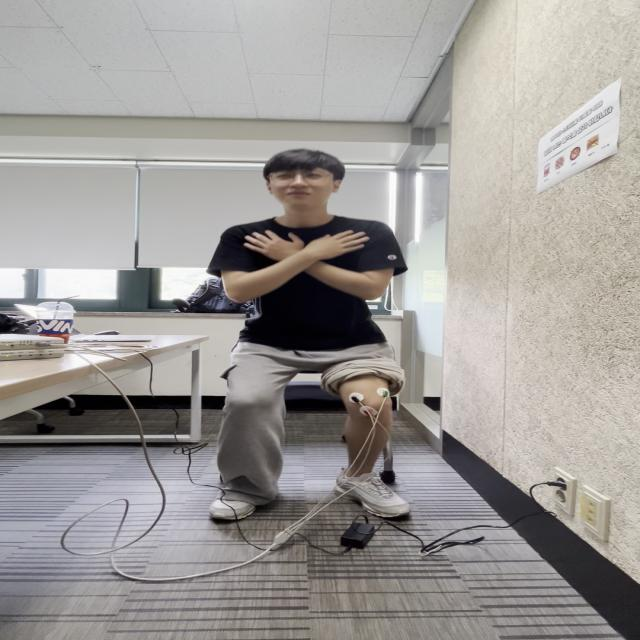stand: (220, 225, 400, 415), (227, 346, 398, 430), (336, 377, 420, 519), (226, 380, 278, 516)
